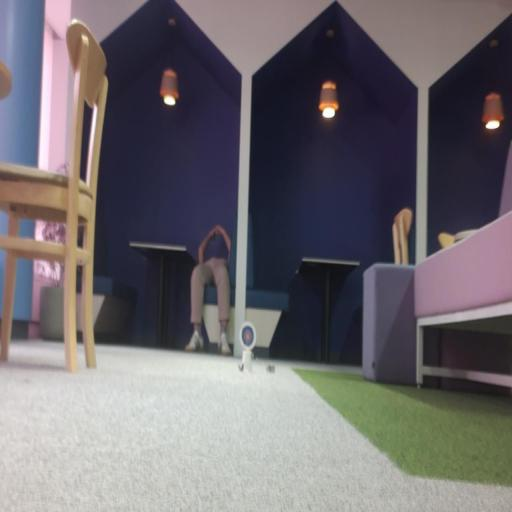target: (240, 321, 256, 350)
